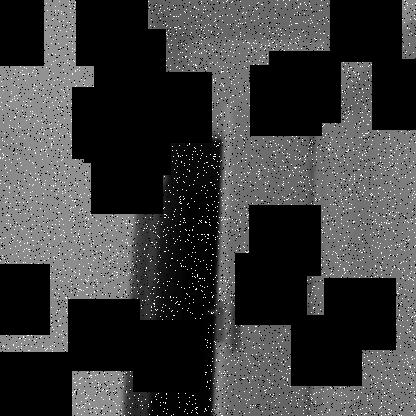Porte: (138, 104, 327, 415)
